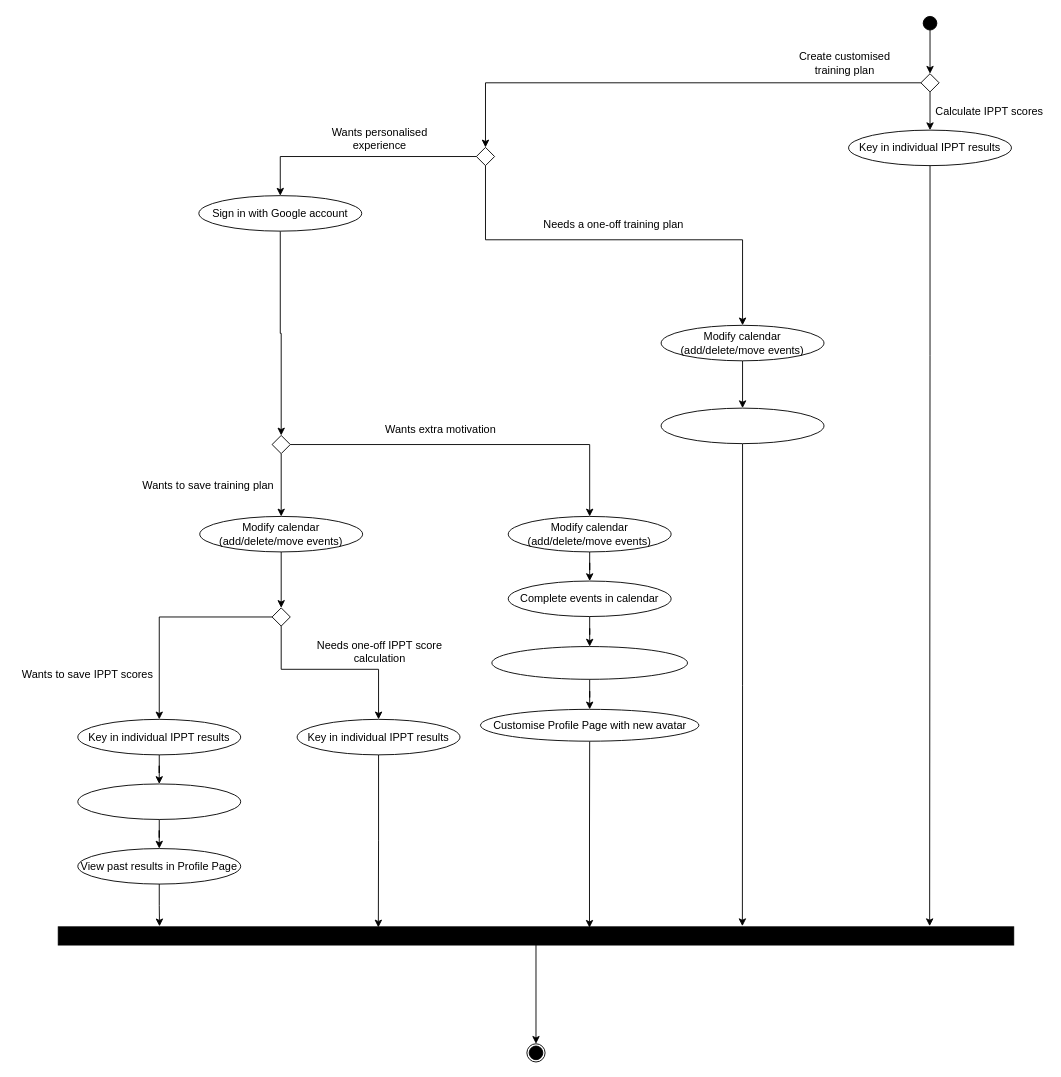
The diagram is 1061 pixels wide and 1077 high, and some of its shapes have lost their labels. The shapes that lost their labels are listed below. From the top down, each one's centre as x and y in pixels, then its label:
point 742,425: Export calendar
point 589,662: Get new avatar in ITpt rewards page
point 159,801: Click "Save Results"
